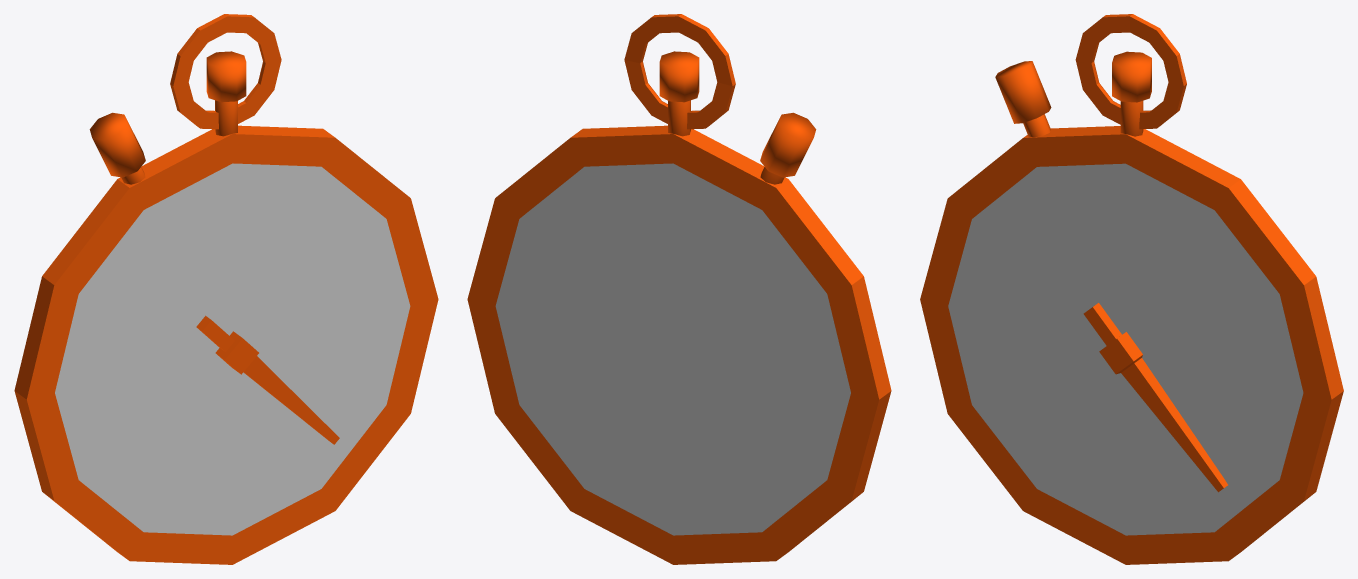
File: icon-timed-mode.fbx
3 views of the same model, side by side, from view 1: azimuth 30°, elevation 25°; view 2: azimuth 150°, elevation 25°; view 3: azimuth 330°, elevation 25° (orthographic).
Parts seen in each view (by area): view 1: Cylinder.002, Cylinder, Cylinder.004, Cube, Cylinder.005, Cylinder.003, Cylinder.001; view 2: Cylinder.002, Cylinder, Cylinder.004, Cylinder.005, Cylinder.003, Cylinder.001; view 3: Cylinder.002, Cylinder, Cylinder.004, Cube, Cylinder.005, Cylinder.003, Cylinder.001.
Boxes of the visible parts, x1,y1,x2,y2 form: Cylinder.002: (55, 163, 410, 535); Cylinder: (14, 125, 438, 564); Cylinder.004: (170, 14, 281, 129); Cube: (196, 315, 339, 444); Cylinder.005: (89, 112, 145, 177); Cylinder.003: (206, 51, 246, 102); Cylinder.001: (215, 100, 237, 136); Cylinder.002: (495, 163, 850, 535); Cylinder: (467, 125, 891, 564); Cylinder.004: (624, 14, 735, 129); Cylinder.005: (760, 112, 816, 177); Cylinder.003: (659, 51, 699, 102); Cylinder.001: (668, 100, 690, 136); Cylinder.002: (948, 163, 1303, 535); Cylinder: (920, 126, 1343, 564); Cylinder.004: (1075, 14, 1186, 129); Cube: (1083, 303, 1227, 492); Cylinder.005: (995, 61, 1051, 123); Cylinder.003: (1112, 51, 1151, 102); Cylinder.001: (1120, 101, 1143, 136).
Bounding box in the file's own units: 47.94 × 60.67 × 5.22.
